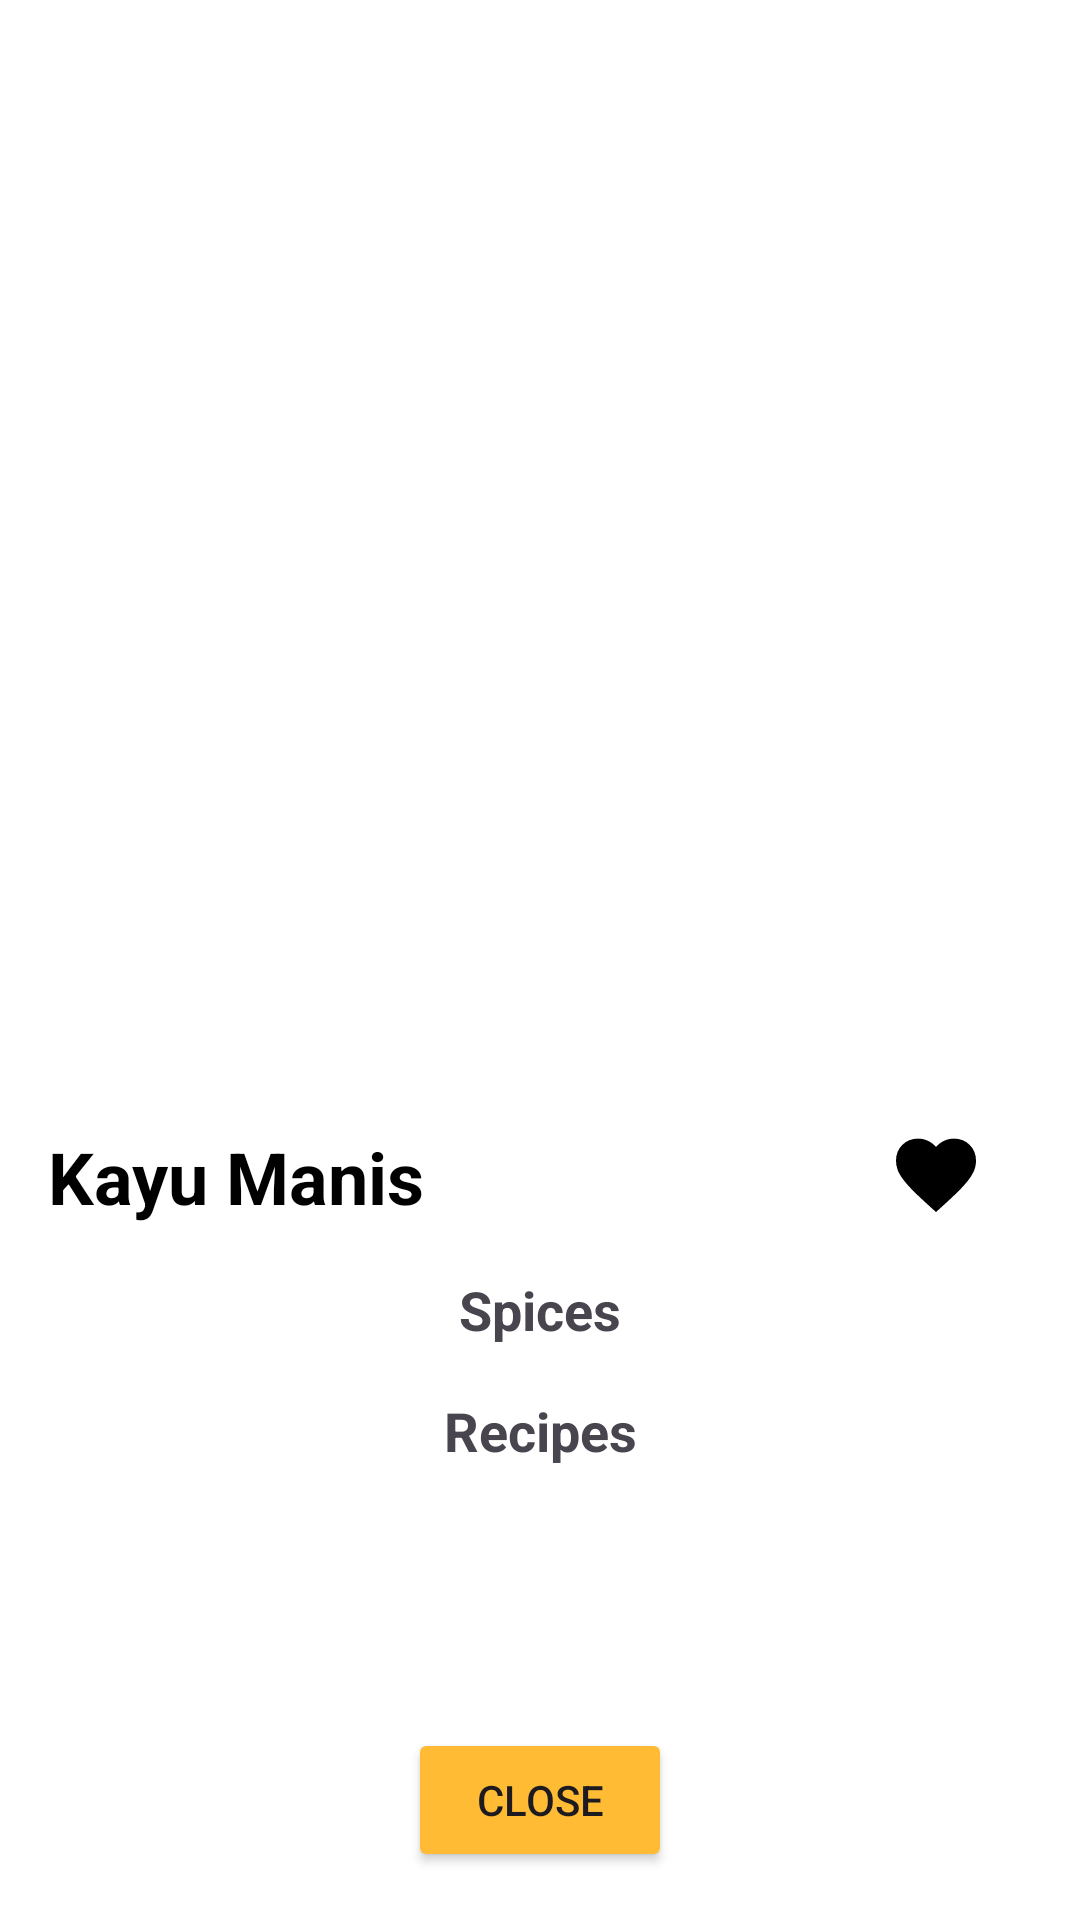

Where icons sit on this 1080w x 1920h app screen, as {"left": x1, "top": y1, "right": x2, "bottom": y2}:
favorite blank: {"left": 896, "top": 1138, "right": 976, "bottom": 1212}
